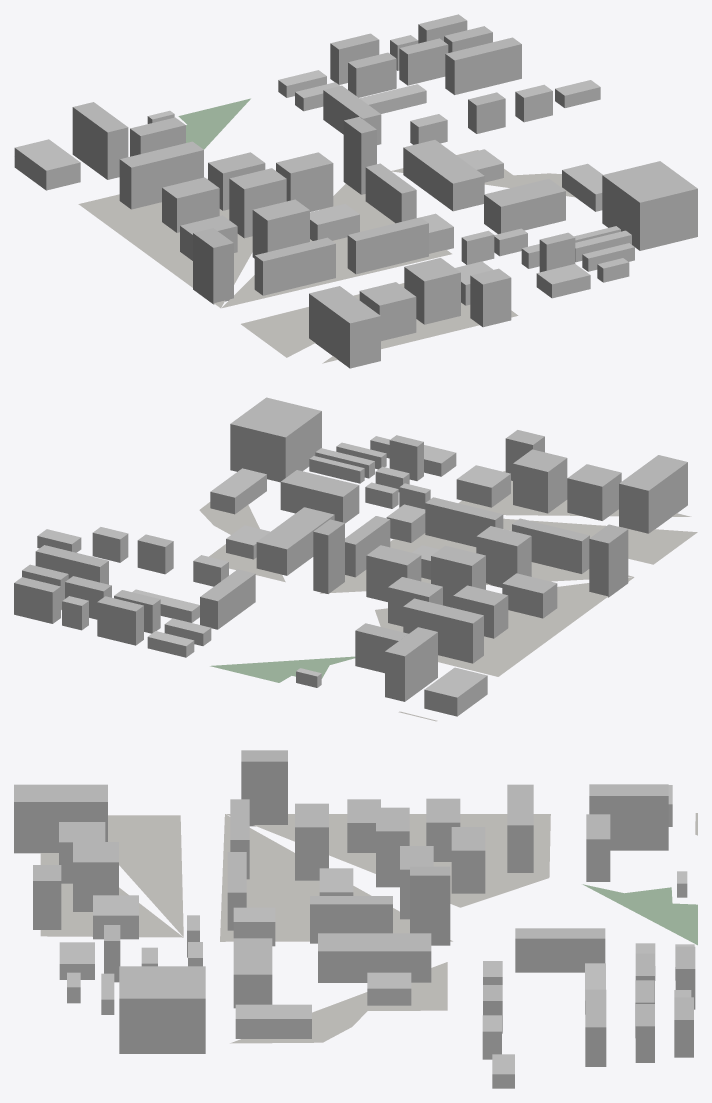
Rendered from 134_97_mid.glb.
3 renders of one model, top to bottom at view 1: azimuth 30°, elevation 25°; view 2: azimuth 150°, elevation 25°; view 3: azimuth 270°, elevation 25°, orthographic. The views are drawn at different scales.
Bounding box in the file's own units: 509 × 60.76 × 520.
